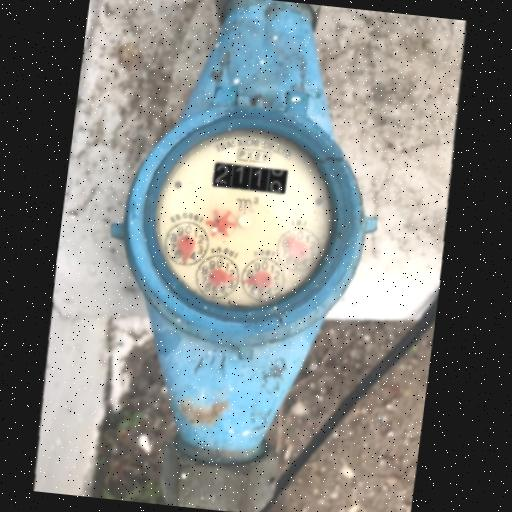1: (231, 165, 251, 191), (250, 167, 268, 192)
2: (213, 163, 234, 189)
8: (267, 169, 289, 194)
border_water_meter_number: (211, 162, 289, 196)
